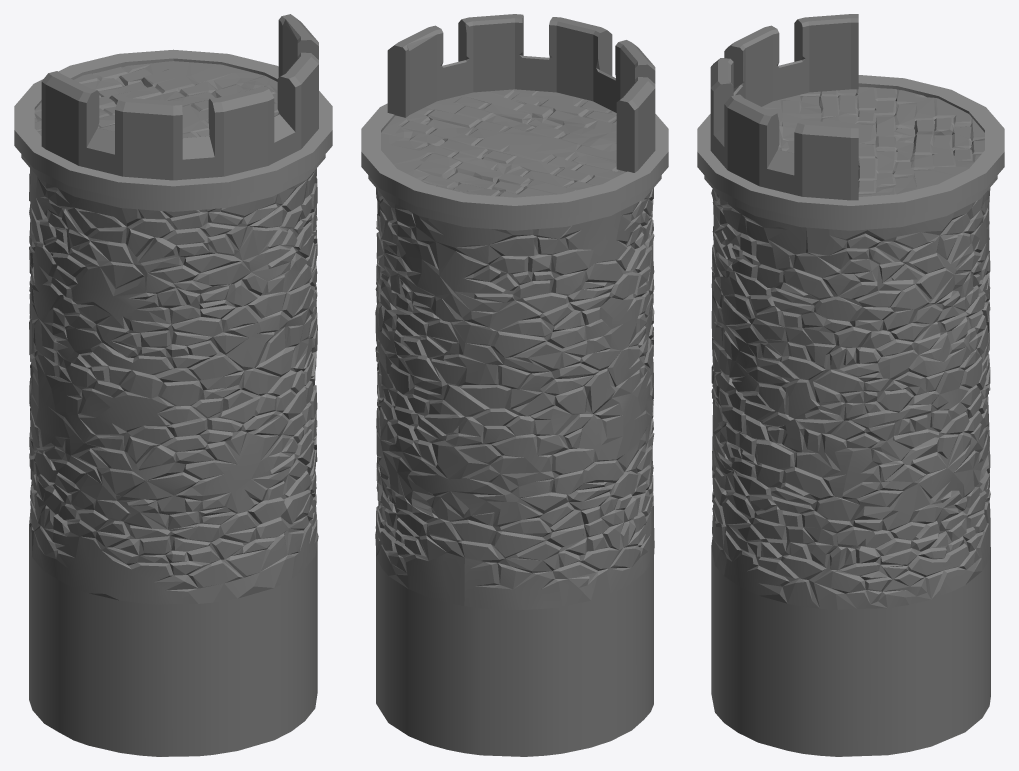
File: castle_round_tower_b.FBX
3 views of the same model, side by side, from view 1: azimuth 30°, elevation 25°; view 2: azimuth 150°, elevation 25°; view 3: azimuth 270°, elevation 25° (orthographic). The views are drawn at different scales.
Visible parts, largest first — view 1: castle_round_tower_b; view 2: castle_round_tower_b; view 3: castle_round_tower_b.
Boxes of the visible parts, bbox=[...] form: castle_round_tower_b: bbox=[14, 14, 332, 756]; castle_round_tower_b: bbox=[361, 14, 668, 756]; castle_round_tower_b: bbox=[697, 14, 1004, 756].
Size of the model in its own units: 5.47 by 12.14 by 5.39.
